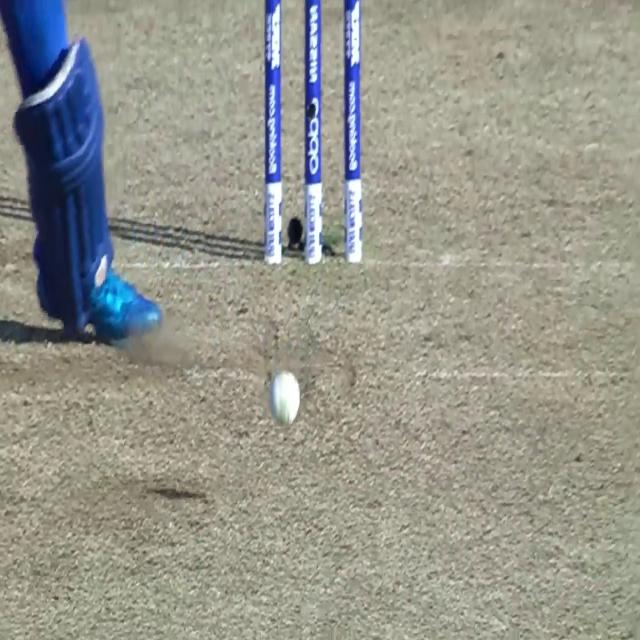ball: (272, 371, 302, 423)
